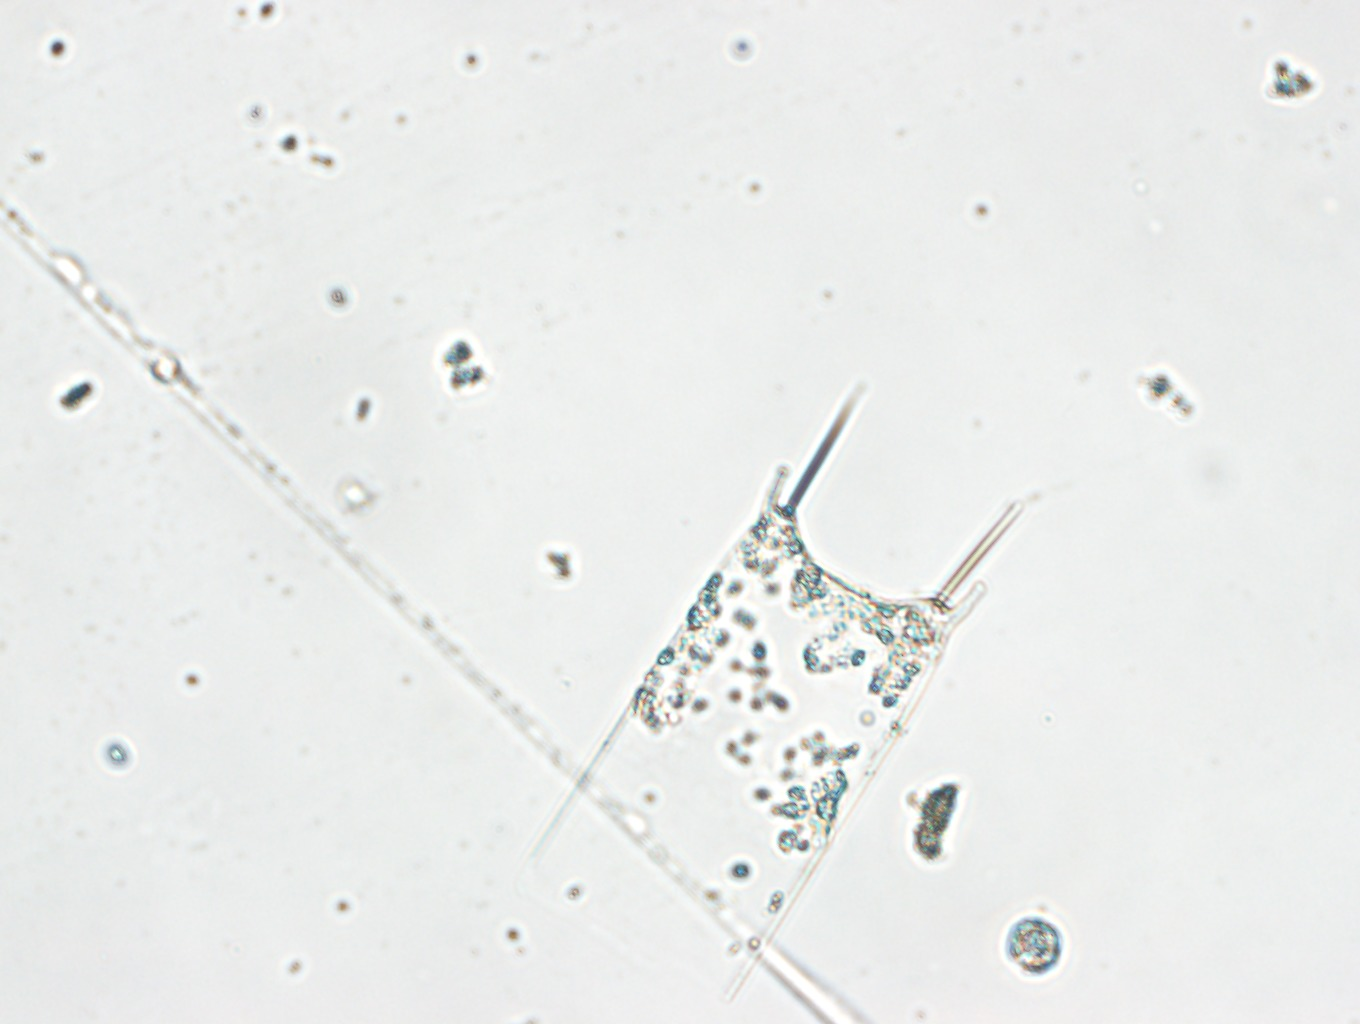biddulphia: (535, 370, 1039, 969)
